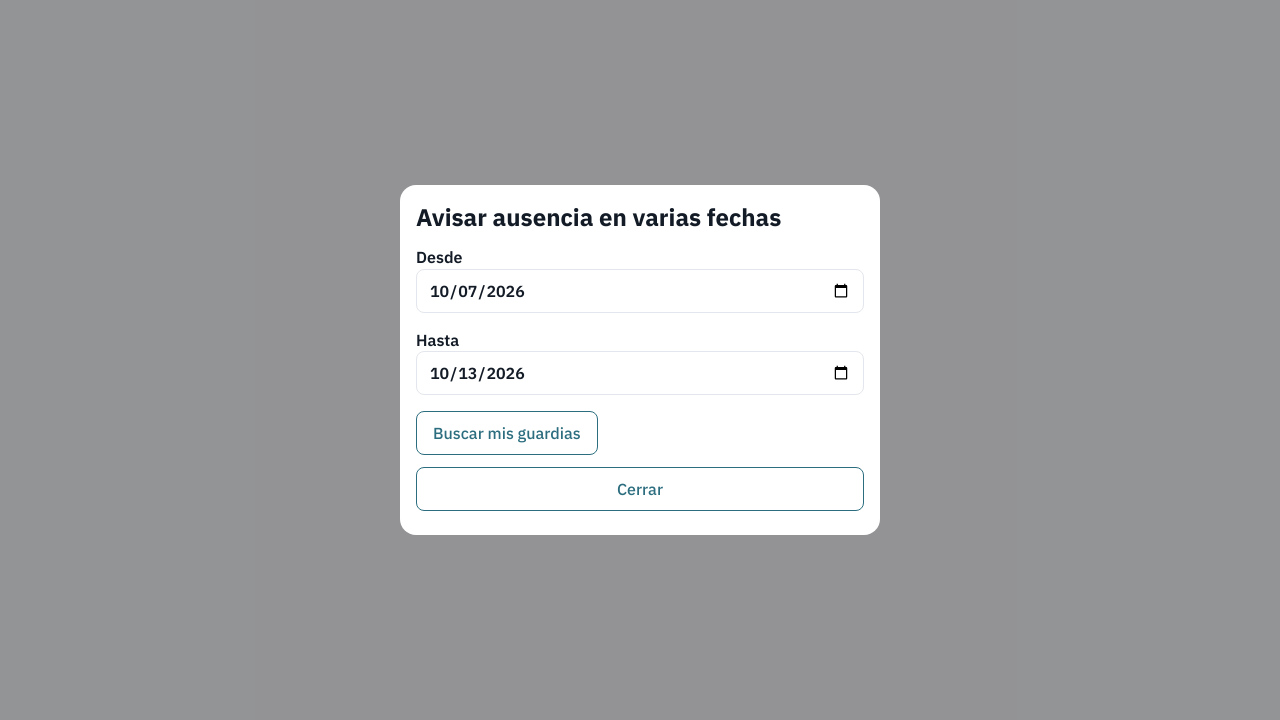
Test case: AusenciaVarios › el médico ve solo sus guardias que no empezaron, con el rango pedido
This screenshot has width=1280, height=720.
Click the button "Buscar mis guardias". click: (507, 433)
box: left=416, top=411, right=598, bottom=455
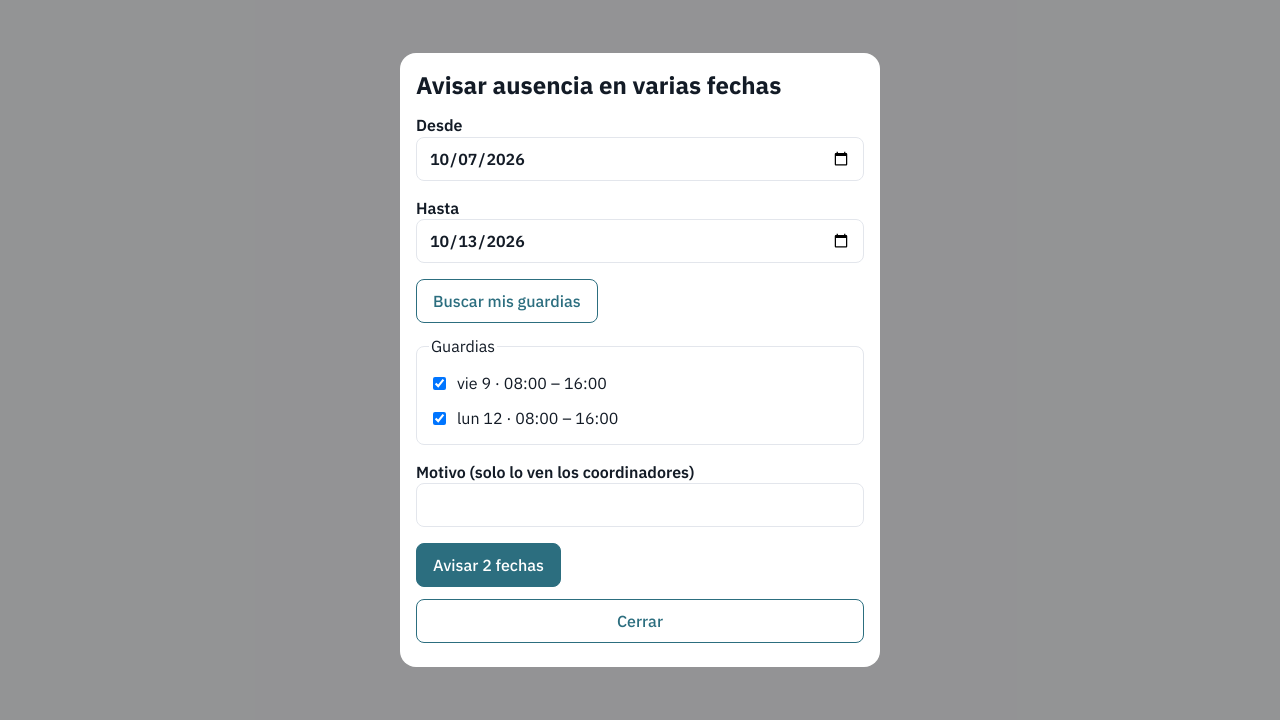
Result: the number of checkboxes is 2 at left=433, top=377, right=446, bottom=390; left=433, top=412, right=446, bottom=425
